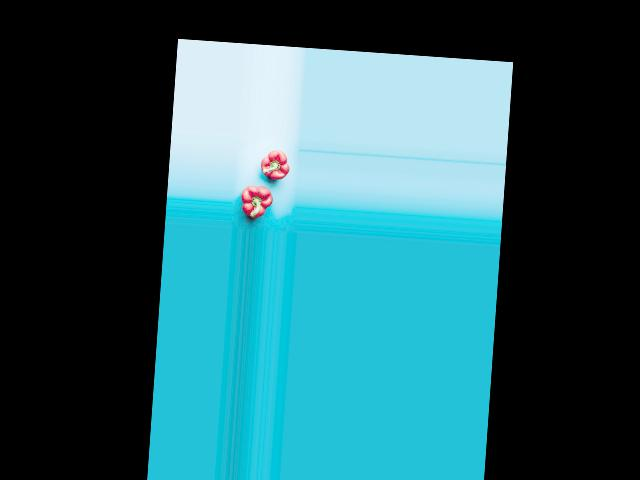bell_pepper: (240, 178, 277, 222)
